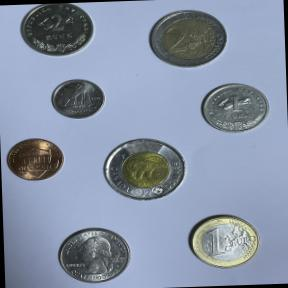coin: (97, 132, 192, 208), (141, 4, 232, 73), (49, 223, 137, 288), (182, 208, 263, 273), (15, 1, 97, 62), (0, 134, 70, 186), (44, 75, 110, 124)
